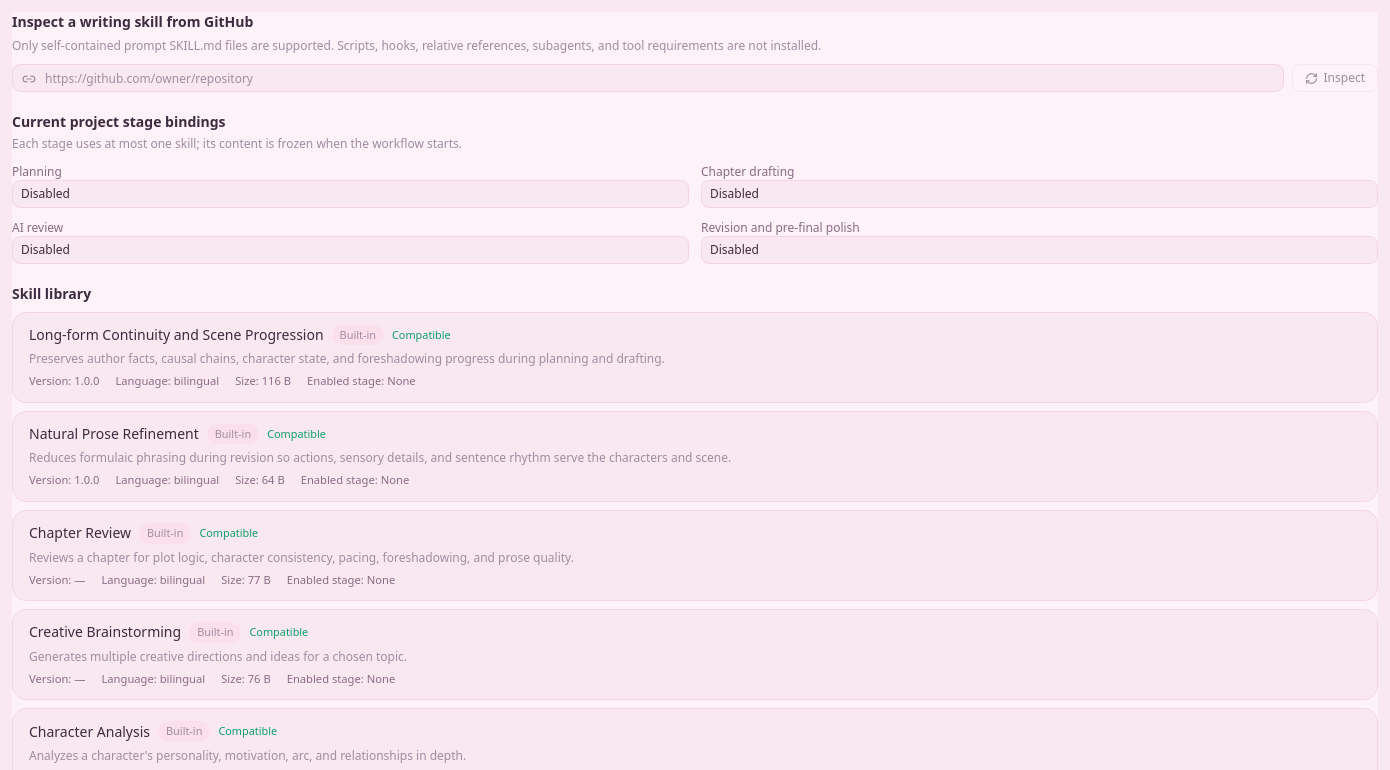
Test: writing skill settings › inspects a GitHub candidate before offering installation
Type "https://github.com/acme/scene-craft" into the field named "GitHub skill URL" at coordinates (648, 78), box [12,64,1284,92]
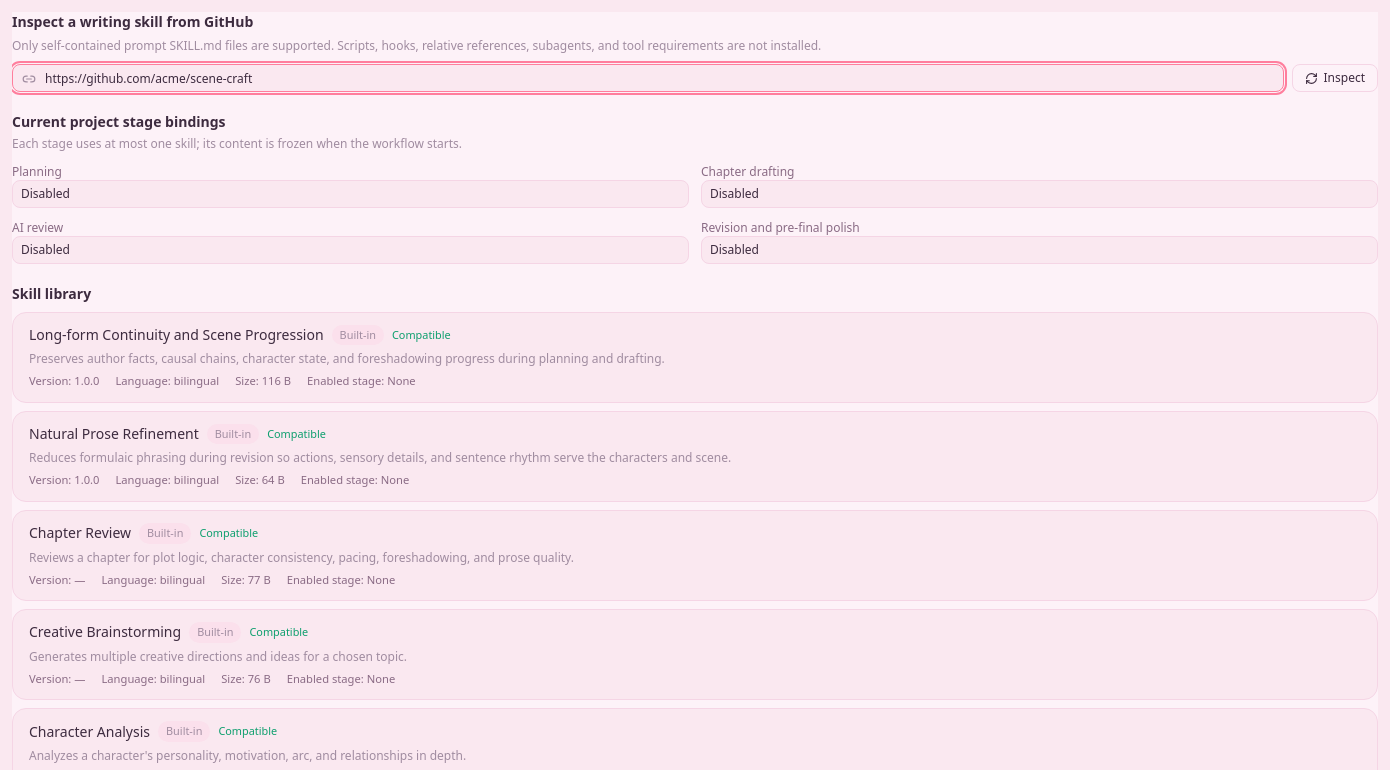
Click the button "Inspect" at coordinates (1335, 78), box [1292,64,1378,92]
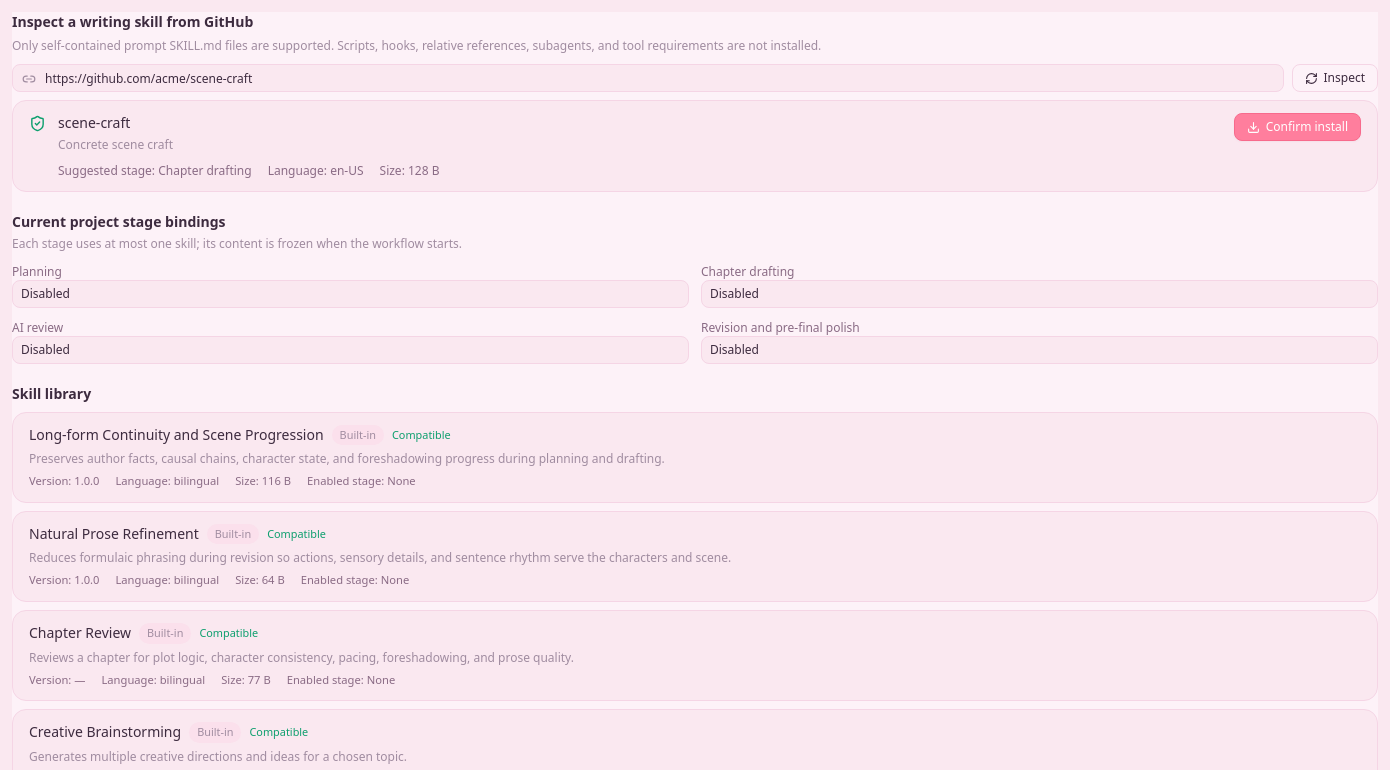
Check: the text "scene-craft" is shown, box [58,113,130,132]
Check: the button "Confirm install" is enabled, box [1234,113,1361,141]
